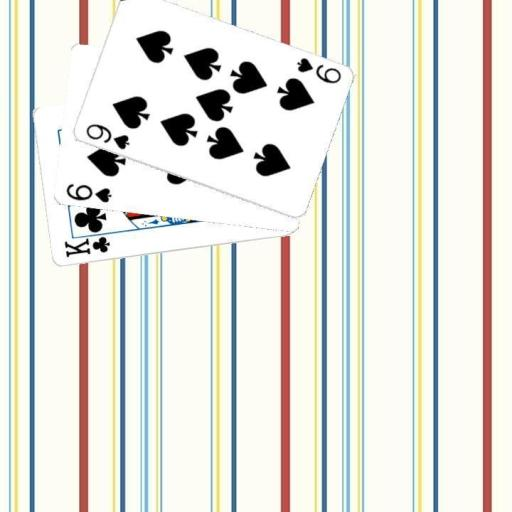card-corner: (61, 228, 115, 259), (82, 121, 131, 151), (293, 55, 342, 85), (63, 180, 113, 204)
